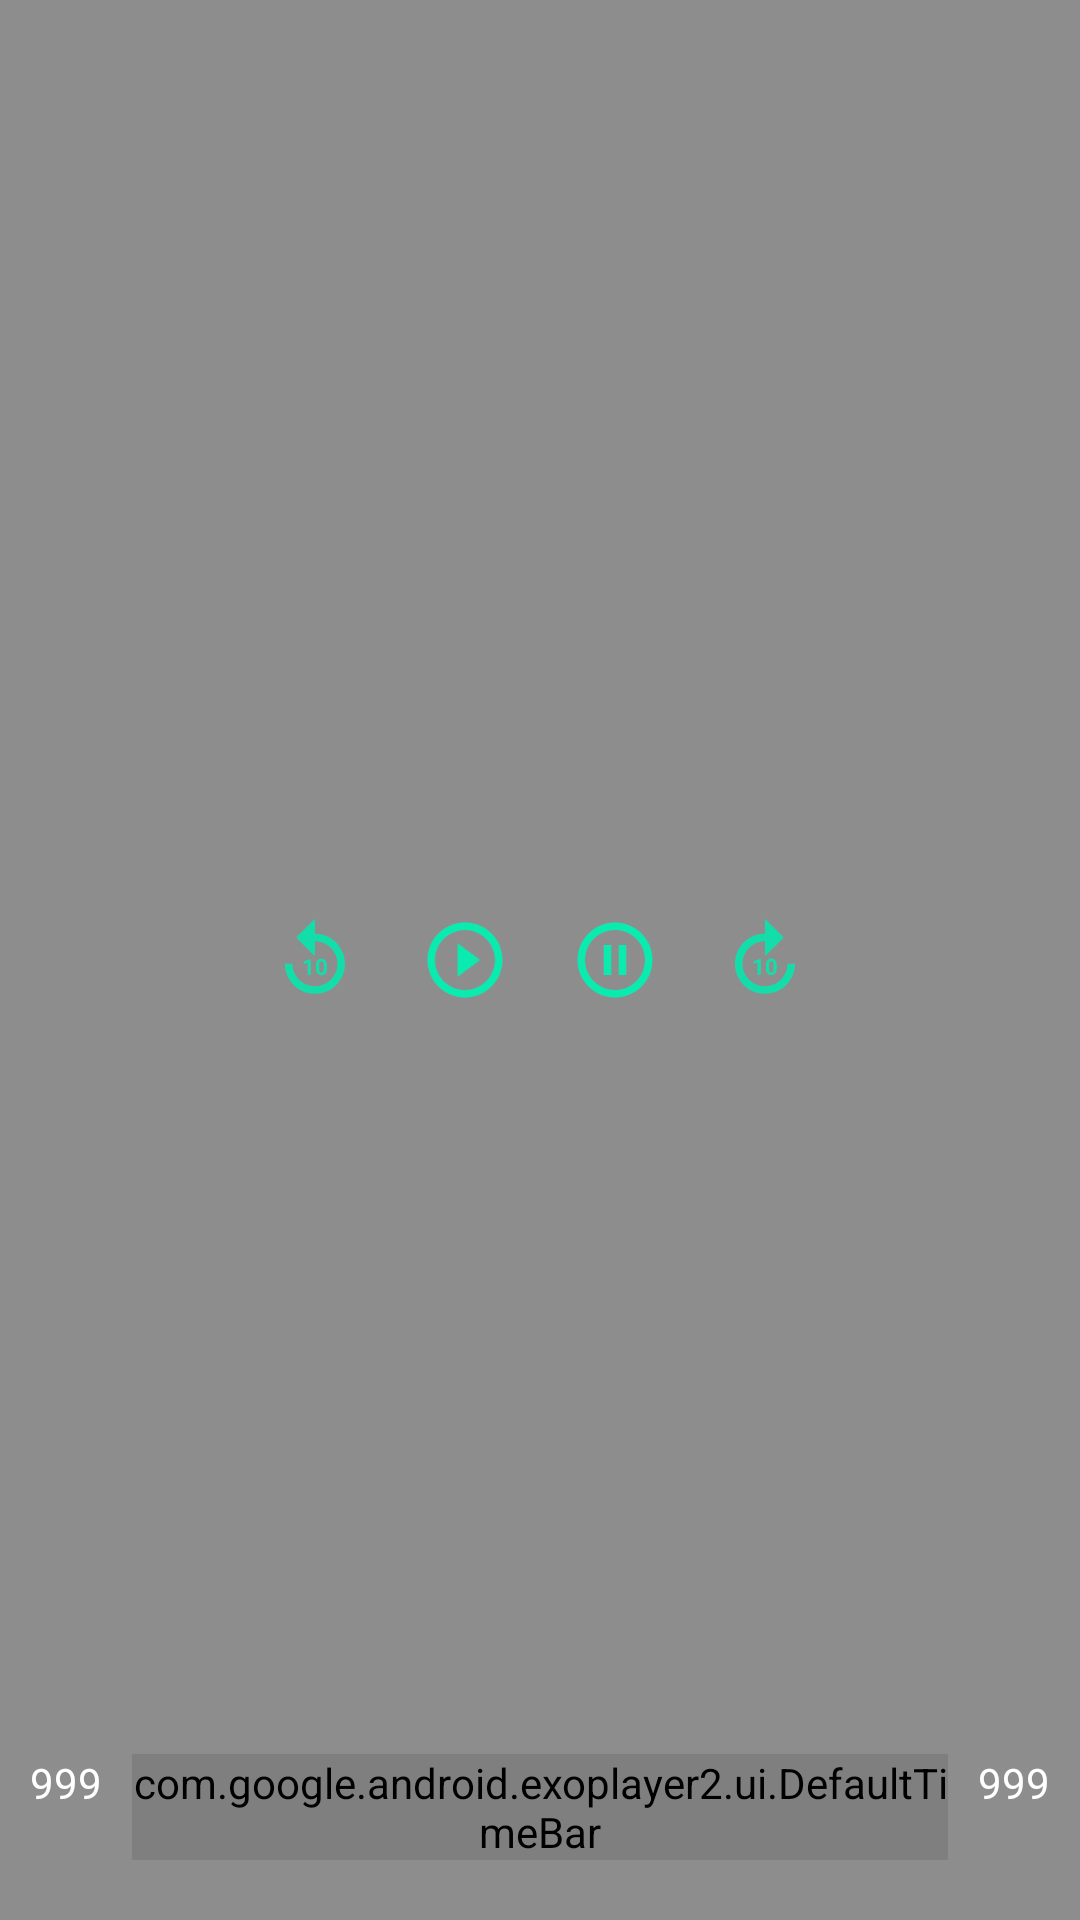

Icon bounding boxes for this 1080*1920 phone screenshot, format [x1, y1, x2, y2]:
forward: [735, 919, 795, 994]
pause circle: [577, 922, 653, 998]
play circle: [427, 922, 503, 998]
replay: [285, 919, 345, 994]
